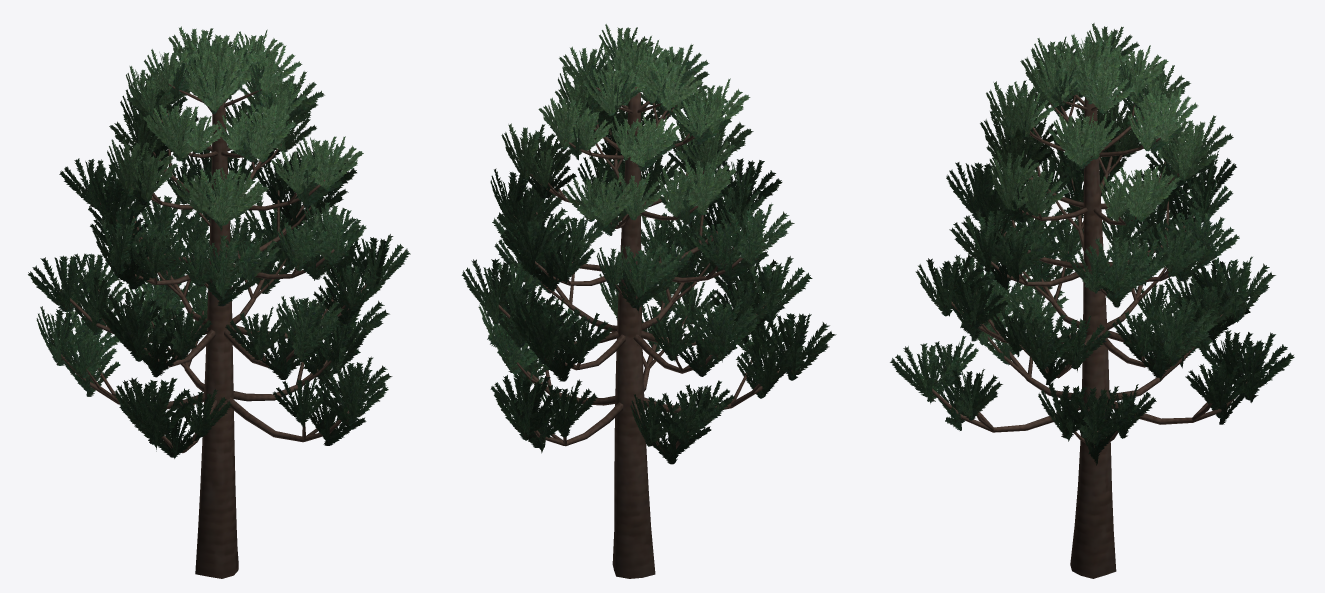
The model's file is arvore_araucaria_lod0.glb.
3 renders of one model, left to right at view 1: azimuth 30°, elevation 25°; view 2: azimuth 150°, elevation 25°; view 3: azimuth 270°, elevation 25°, orthographic.
Visible parts, largest first — view 1: arvore_araucaria_lod0; view 2: arvore_araucaria_lod0; view 3: arvore_araucaria_lod0.
Part boxes in pixels (x1,y1,x2,y2): arvore_araucaria_lod0: [28, 26, 410, 578]; arvore_araucaria_lod0: [461, 24, 836, 578]; arvore_araucaria_lod0: [890, 23, 1294, 578].
Bounding box in the file's own units: 4.45 × 7 × 5.06.
2 materials, 2 textured.
